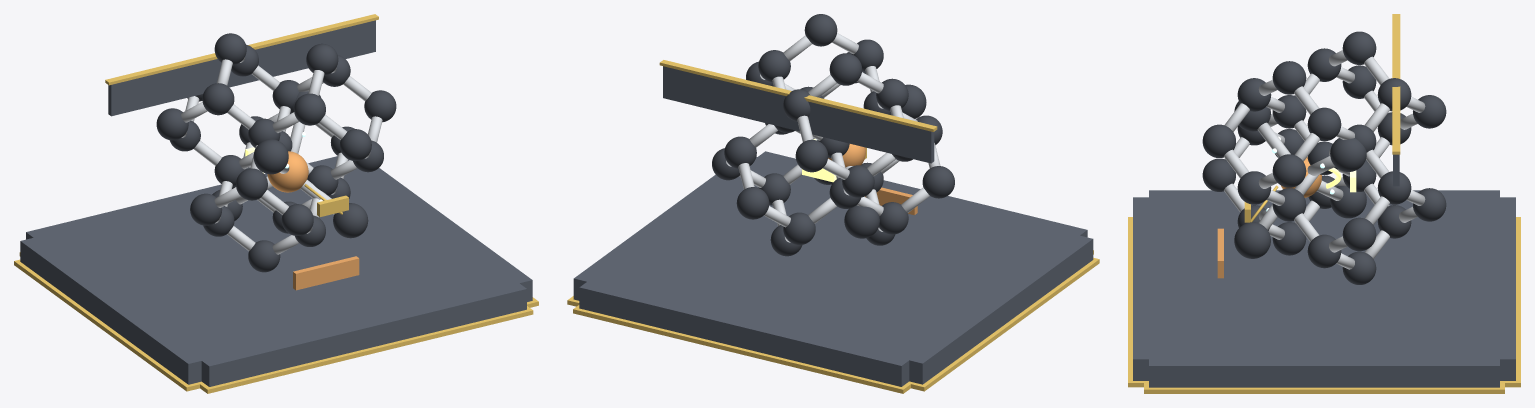
The model's file is diamond-lattice.glb.
The picture shows the model from 3 angles, left to right: view 1: azimuth 30°, elevation 25°; view 2: azimuth 150°, elevation 25°; view 3: azimuth 270°, elevation 25°; orthographic projection. The views are drawn at different scales.
Parts seen in each view (by area): view 1: diamond-lattice-plinth, diamond-lattice-det-plinth, diamond-lattice-det-plaque-bg, diamond-lattice-plinth-rim, diamond-lattice-det-plaque-trim, diamond-lattice-det-plinth-rim, diamond-lattice-det-sp3-badge, diamond-lattice-det-c4, diamond-lattice-det-c0, diamond-lattice-det-c2, diamond-lattice-atom-16, diamond-lattice-atom-15 (+20 smaller); view 2: diamond-lattice-det-plinth, diamond-lattice-plinth, diamond-lattice-det-plaque-bg, diamond-lattice-plinth-rim, diamond-lattice-det-plaque-trim, diamond-lattice-det-plinth-rim, diamond-lattice-det-c3, diamond-lattice-atom-17, diamond-lattice-atom-22, diamond-lattice-atom-27, diamond-lattice-atom-20, diamond-lattice-atom-18 (+14 smaller); view 3: diamond-lattice-det-plinth, diamond-lattice-plinth, diamond-lattice-det-plinth-rim, diamond-lattice-plinth-rim, diamond-lattice-det-plaque-trim, diamond-lattice-det-c2, diamond-lattice-det-c1, diamond-lattice-atom-19, diamond-lattice-atom-21, diamond-lattice-atom-20, diamond-lattice-atom-18, diamond-lattice-atom-6 (+27 smaller).
Boxes of the visible parts, bbox=[...] form: diamond-lattice-plinth: bbox=[26, 156, 526, 386]; diamond-lattice-det-plinth: bbox=[20, 164, 532, 384]; diamond-lattice-det-plaque-bg: bbox=[108, 20, 375, 116]; diamond-lattice-plinth-rim: bbox=[19, 252, 533, 393]; diamond-lattice-det-plaque-trim: bbox=[105, 14, 378, 85]; diamond-lattice-det-plinth-rim: bbox=[14, 259, 538, 391]; diamond-lattice-det-sp3-badge: bbox=[293, 256, 359, 290]; diamond-lattice-det-c4: bbox=[253, 139, 288, 174]; diamond-lattice-det-c0: bbox=[267, 151, 308, 192]; diamond-lattice-det-c2: bbox=[333, 203, 368, 238]; diamond-lattice-atom-16: bbox=[294, 93, 325, 125]; diamond-lattice-atom-15: bbox=[202, 83, 234, 115]; diamond-lattice-det-plinth: bbox=[573, 156, 1093, 384]; diamond-lattice-plinth: bbox=[579, 151, 1087, 386]; diamond-lattice-det-plaque-bg: bbox=[663, 66, 934, 163]; diamond-lattice-plinth-rim: bbox=[573, 250, 1093, 393]; diamond-lattice-det-plaque-trim: bbox=[659, 60, 937, 131]; diamond-lattice-det-plinth-rim: bbox=[567, 257, 1099, 391]; diamond-lattice-det-c3: bbox=[844, 205, 879, 238]; diamond-lattice-atom-17: bbox=[795, 139, 828, 172]; diamond-lattice-atom-22: bbox=[736, 187, 769, 219]; diamond-lattice-atom-27: bbox=[922, 166, 954, 198]; diamond-lattice-atom-20: bbox=[804, 14, 837, 46]; diamond-lattice-atom-18: bbox=[829, 53, 862, 85]; diamond-lattice-det-plinth: bbox=[1149, 190, 1499, 387]; diamond-lattice-plinth: bbox=[1133, 197, 1515, 380]; diamond-lattice-det-plinth-rim: bbox=[1144, 383, 1504, 393]; diamond-lattice-plinth-rim: bbox=[1128, 217, 1520, 387]; diamond-lattice-det-plaque-trim: bbox=[1392, 14, 1400, 154]; diamond-lattice-det-c2: bbox=[1234, 222, 1270, 258]; diamond-lattice-det-c1: bbox=[1330, 138, 1366, 171]; diamond-lattice-atom-19: bbox=[1272, 154, 1306, 187]; diamond-lattice-atom-21: bbox=[1342, 217, 1376, 251]; diamond-lattice-atom-20: bbox=[1272, 61, 1306, 94]; diamond-lattice-atom-18: bbox=[1342, 31, 1376, 64]; diamond-lattice-atom-6: bbox=[1307, 107, 1341, 141].
Size of the model in its own units: 0.266 by 0.1771 by 0.246.
